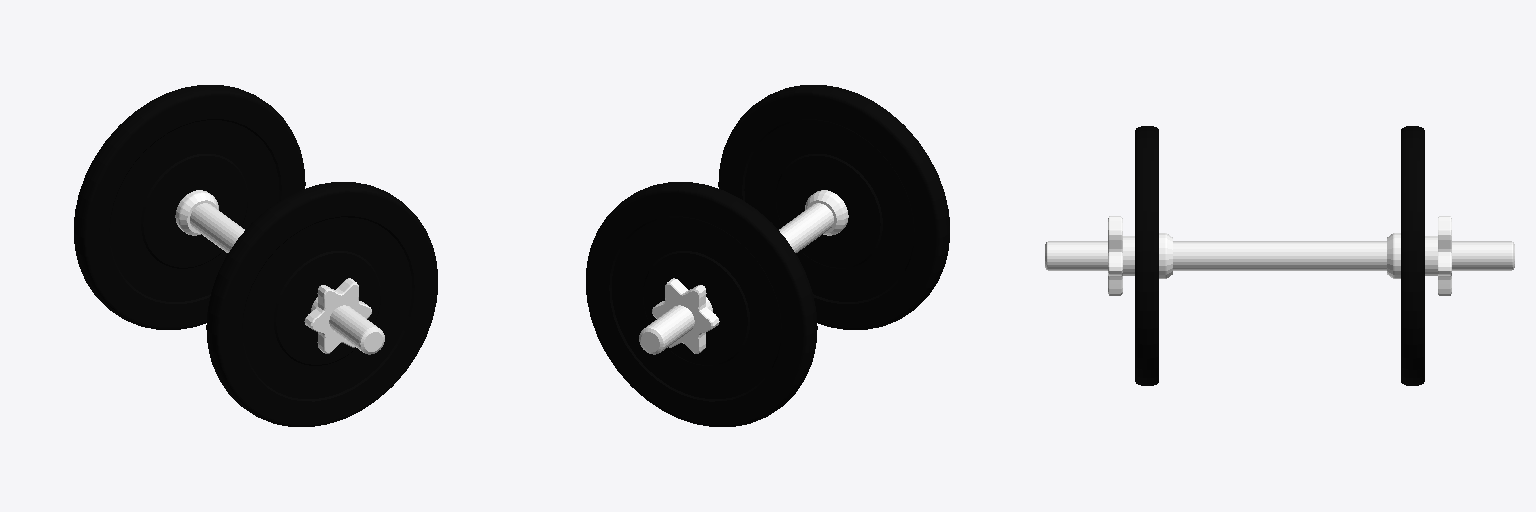
File: dumbbell.obj
3 views of the same model, side by side, from view 1: azimuth 30°, elevation 25°; view 2: azimuth 150°, elevation 25°; view 3: azimuth 270°, elevation 25° (orthographic).
Visible parts, largest first — view 1: dumbell; view 2: dumbell; view 3: dumbell.
Part boxes in pixels (x1,y1,x2,y2): dumbell: (74,85,437,426); dumbell: (586,85,949,426); dumbell: (1045,126,1514,385).
Bounding box in the file's own units: 8.3 × 8.3 × 14.99.